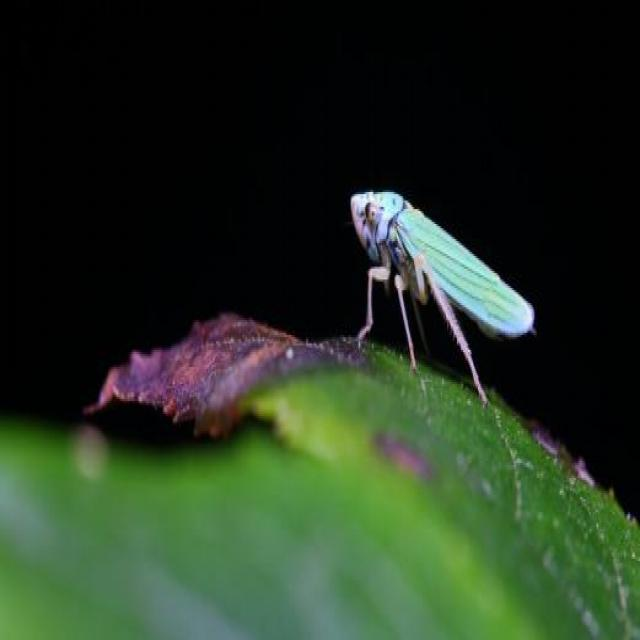Yechan: (342, 174, 537, 367)
